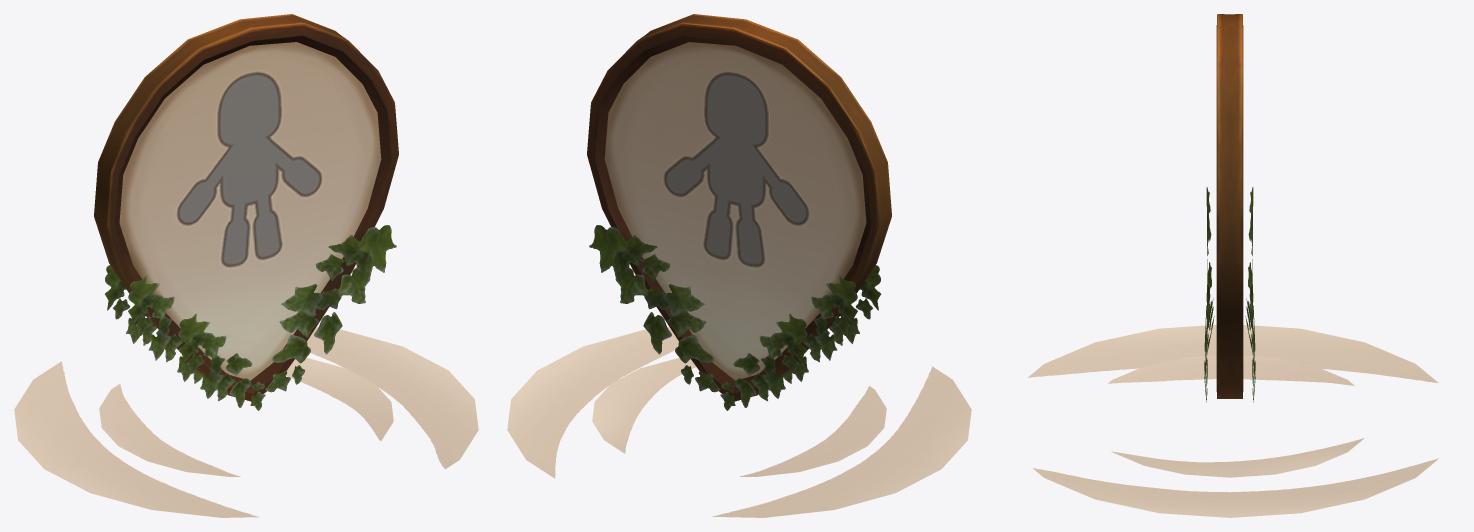
Rendered from Pr3_Marke_all.fbx.
3 renders of one model, left to right at view 1: azimuth 30°, elevation 25°; view 2: azimuth 150°, elevation 25°; view 3: azimuth 270°, elevation 25°, orthographic.
Visible parts, largest first — view 1: hontai, ef_2, ef_1; view 2: hontai, ef_2, ef_1; view 3: ef_2, hontai, ef_1.
Boxes of the visible parts, x1,y1,x2,y2 form: hontai: [94, 14, 398, 410]; ef_2: [14, 327, 478, 517]; ef_1: [99, 357, 393, 476]; hontai: [587, 14, 891, 410]; ef_2: [507, 327, 971, 517]; ef_1: [592, 357, 886, 476]; ef_2: [1027, 324, 1438, 517]; hontai: [1204, 14, 1255, 402]; ef_1: [1108, 355, 1364, 477].
Bounding box in the file's own units: 8.11 × 7.9 × 8.11.
